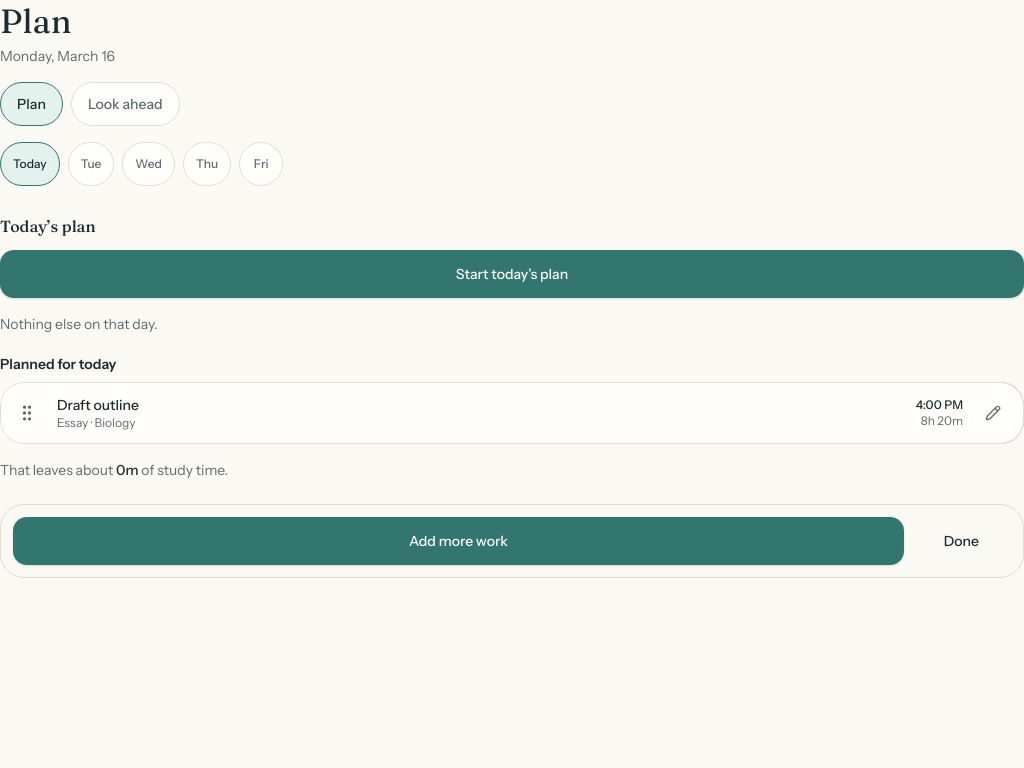
Scenario: PlanPage › moving an already-planned item to a different day › shows a calm, non-blocking over-capacity notice for the target day before confirming a move
The width and height of the screenshot is (1024, 768).
Expected: the heading "Today’s plan" is shown, [0, 216, 96, 236]
// Moving now lives in the session's edit sheet, opened from the day view.
Click the button named "Edit Draft outline" at (993, 413), box [971, 391, 1015, 435]
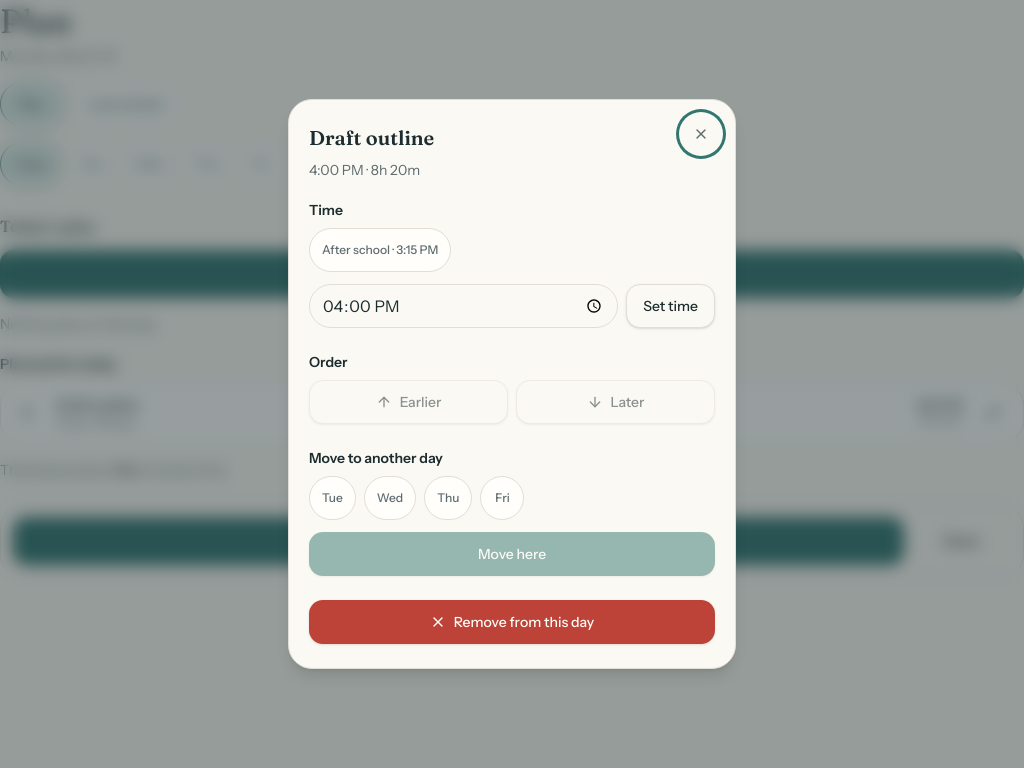
Click the radio button labelled "Tue" at (332, 498), box [309, 476, 356, 520]
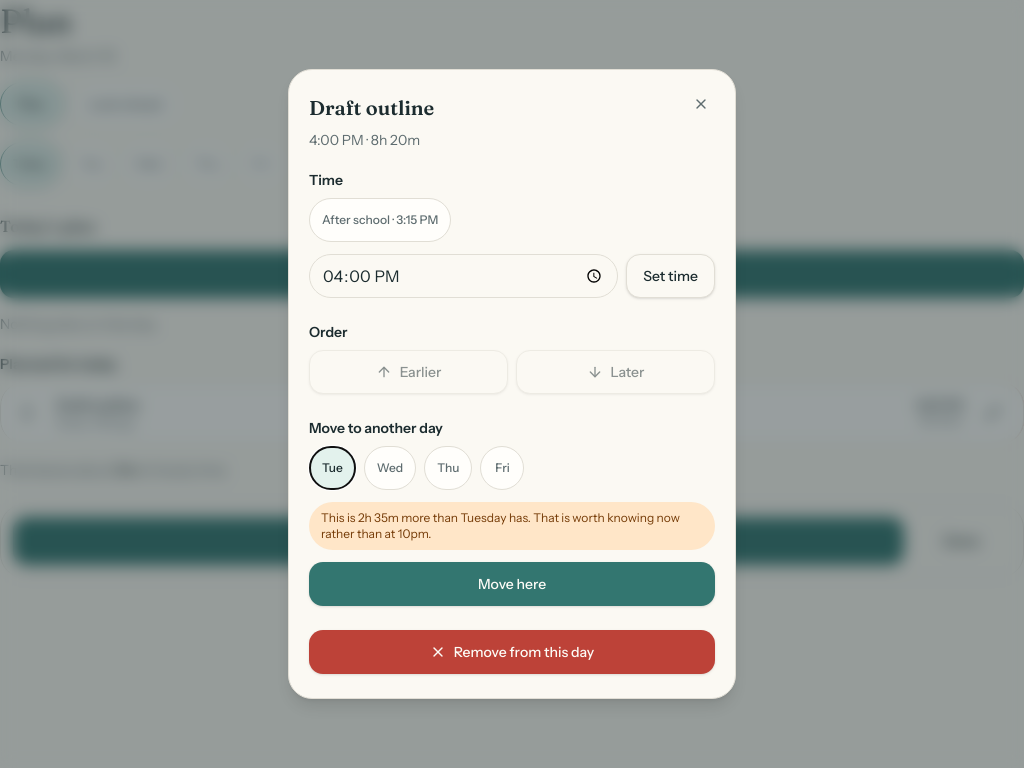
Expected: the text "more than Tuesday has" is shown, [309, 502, 715, 550]
Expected: the button "Move here" is enabled, [309, 562, 715, 606]
